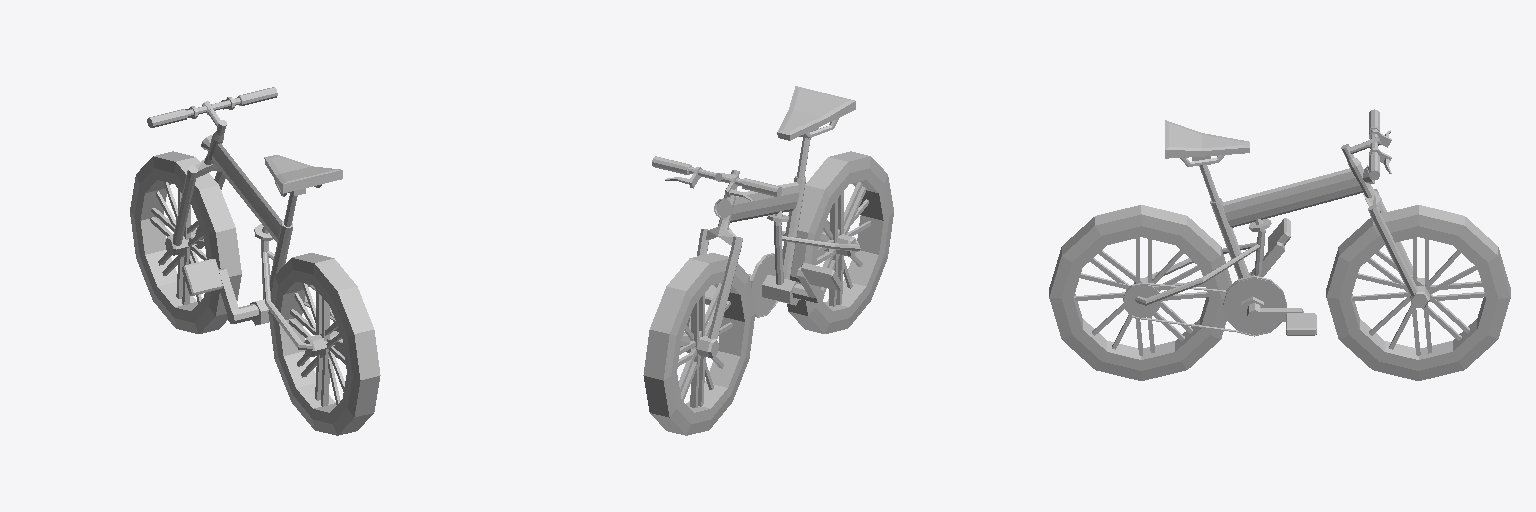
Rendered from Bike.obj.
3 renders of one model, left to right at view 1: azimuth 30°, elevation 25°; view 2: azimuth 150°, elevation 25°; view 3: azimuth 270°, elevation 25°, orthographic.
Visible parts, largest first — view 1: Bike_Cylinder.018; view 2: Bike_Cylinder.018; view 3: Bike_Cylinder.018.
Boxes of the visible parts, x1=… form: Bike_Cylinder.018: x1=130, y1=87, x2=380, y2=435; Bike_Cylinder.018: x1=643, y1=86, x2=893, y2=435; Bike_Cylinder.018: x1=1049, y1=109, x2=1510, y2=380.
Size of the model in its own units: 1.68 by 2.79 by 4.83.